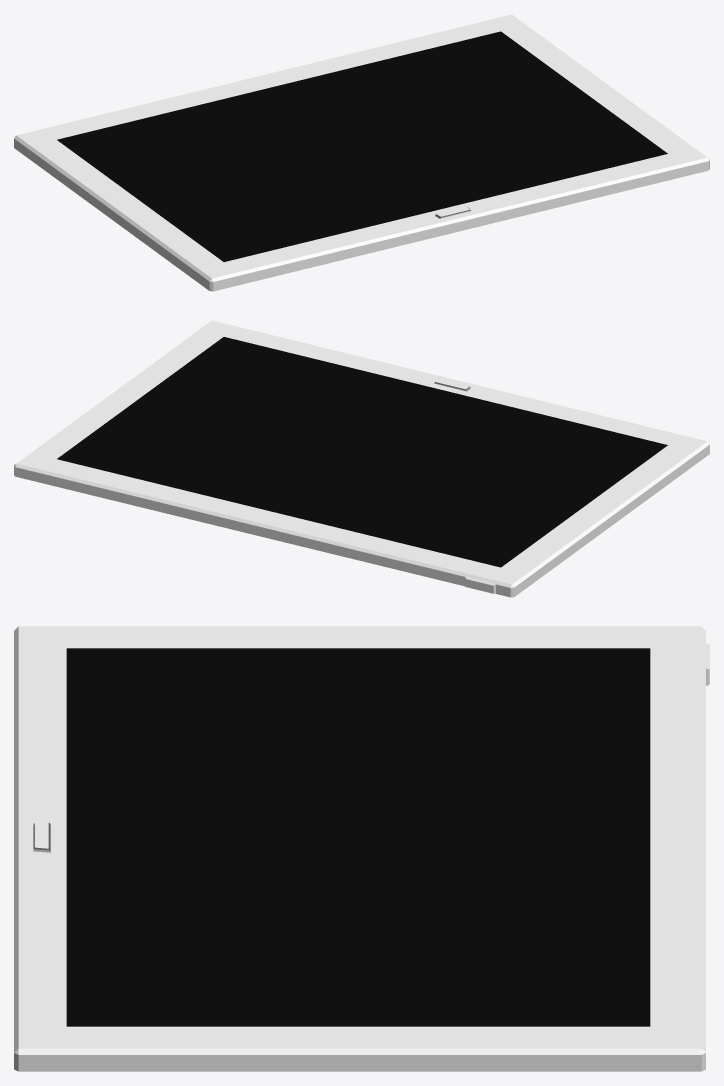
File: tablet.glb
3 renders of one model, top to bottom at view 1: azimuth 30°, elevation 25°; view 2: azimuth 150°, elevation 25°; view 3: azimuth 270°, elevation 25°, orthographic. The views are drawn at different scales.
Parts seen in each view (by area): view 1: Tablet; view 2: Tablet; view 3: Tablet.
Boxes of the visible parts, x1,y1,x2,y2 form: Tablet: [14, 14, 709, 291]; Tablet: [14, 320, 709, 597]; Tablet: [14, 626, 709, 1071].
Bounding box in the file's own units: 0.3206 × 0.0097 × 0.2212.
2 materials, 1 textured.
